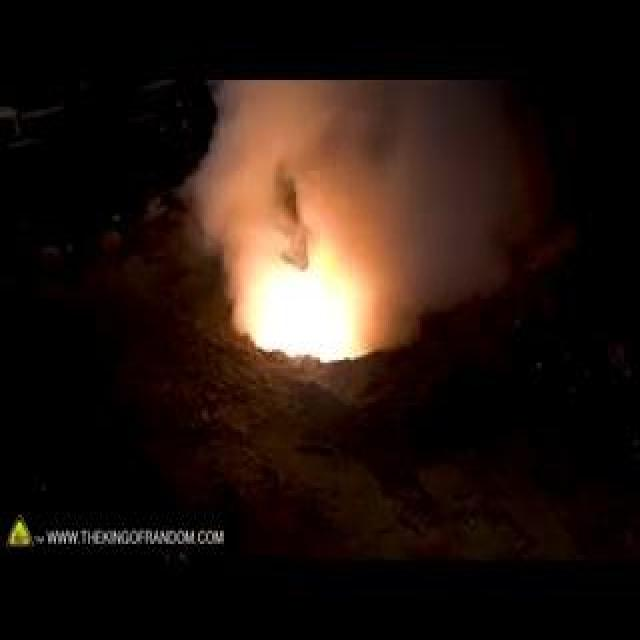Fire: (148, 162, 291, 302)
